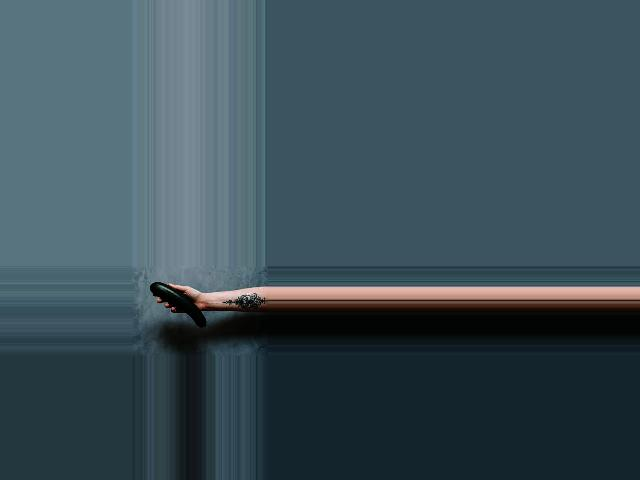cucumber: (149, 282, 205, 327)
